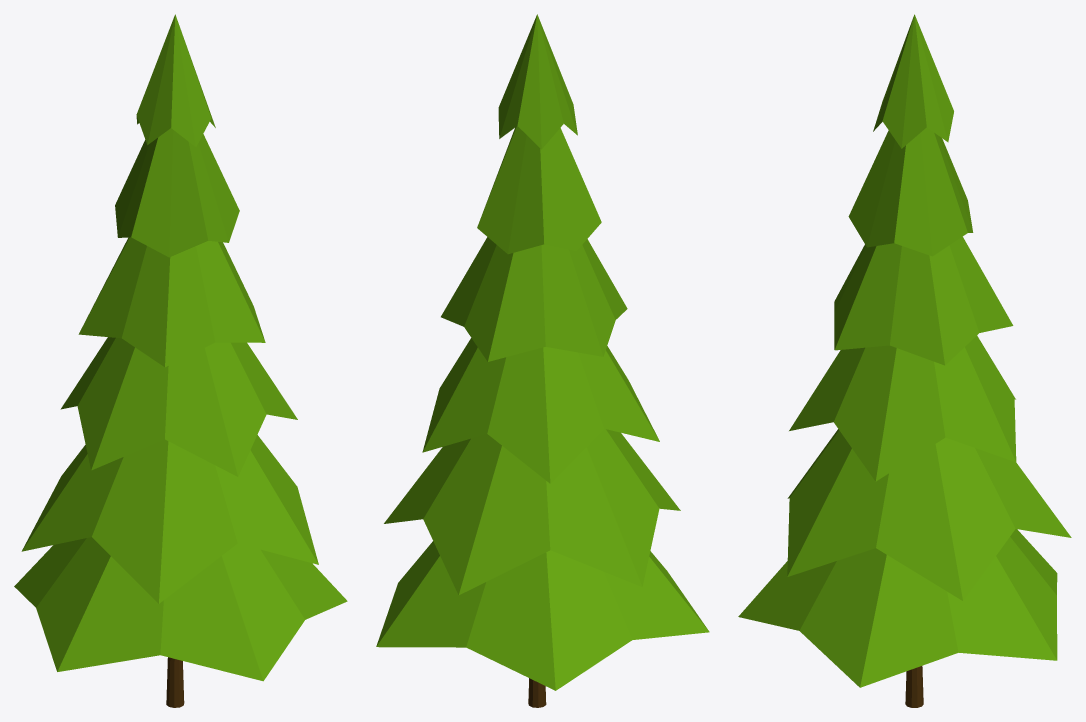
The model's file is SpruceMK1.fbx.
The picture shows the model from 3 angles, left to right: view 1: azimuth 30°, elevation 25°; view 2: azimuth 150°, elevation 25°; view 3: azimuth 270°, elevation 25°; orthographic projection.
Parts seen in each view (by area): view 1: SpruceMK1; view 2: SpruceMK1; view 3: SpruceMK1.
Part boxes in pixels (bbox=[...]): SpruceMK1: bbox=[14, 14, 347, 707]; SpruceMK1: bbox=[376, 14, 709, 707]; SpruceMK1: bbox=[738, 14, 1071, 707].
Size of the model in its own units: 1142 by 2591 by 1136.
